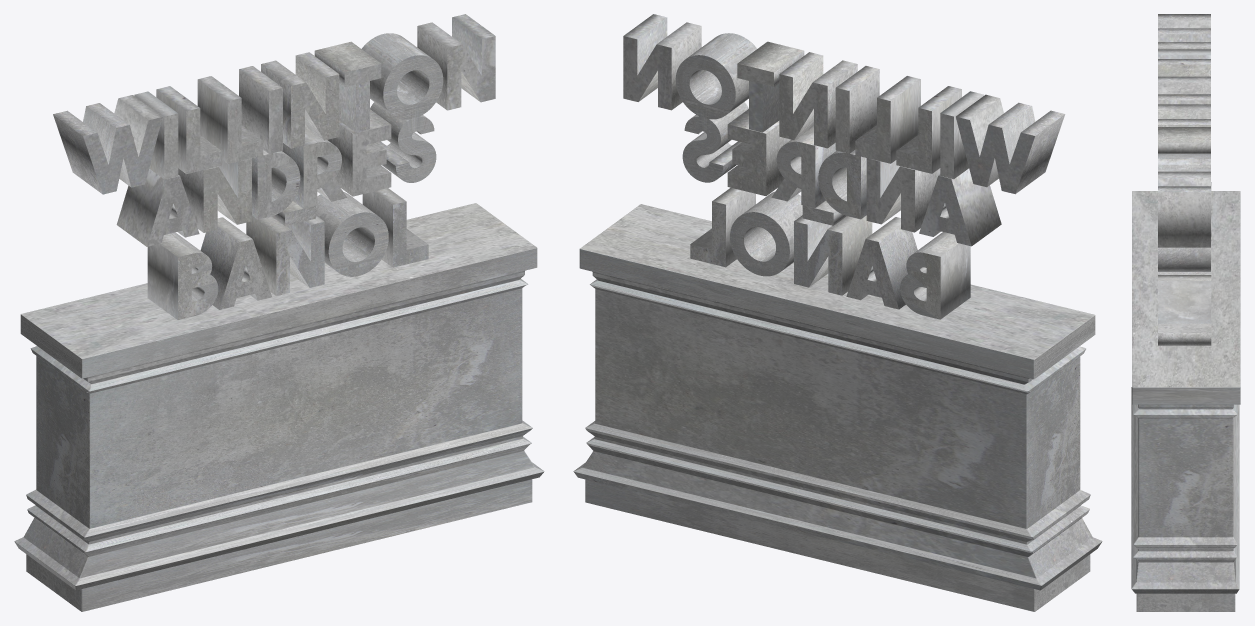
Rendered from willinton-andres-banol.gltf.
The picture shows the model from 3 angles, left to right: view 1: azimuth 30°, elevation 25°; view 2: azimuth 150°, elevation 25°; view 3: azimuth 270°, elevation 25°; orthographic projection. The views are drawn at different scales.
Visible parts, largest first — view 1: Cube, Text.002, Text.003; view 2: Cube, Text.002, Text.003; view 3: Cube, Text.002, Text.003.
Part boxes in pixels (x1,y1,x2,y2): Cube: (14,203,544,611); Text.002: (53,14,495,246); Text.003: (147,188,428,319); Cube: (573,204,1102,611); Text.002: (623,14,1065,246); Text.003: (690,188,970,319); Cube: (1131,191,1240,611); Text.002: (1158,14,1210,271); Text.003: (1158,182,1211,345).
Bounding box in the file's own units: 9.69 × 9.14 × 2.21.
3 materials, 3 textured.
